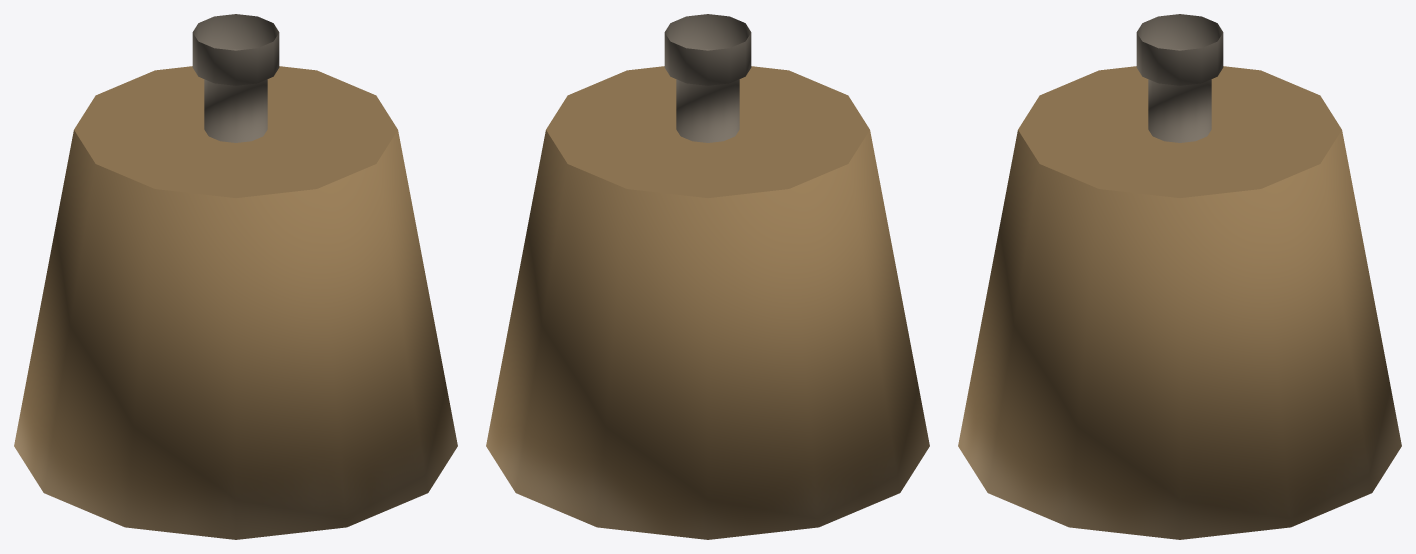
File: Ceiling_Lamp_1.fbx
3 renders of one model, left to right at view 1: azimuth 30°, elevation 25°; view 2: azimuth 150°, elevation 25°; view 3: azimuth 270°, elevation 25°, orthographic.
Visible parts, largest first — view 1: Cylinder; view 2: Cylinder; view 3: Cylinder.
Part boxes in pixels (left/top/right/bottom): Cylinder: left=14, top=14, right=457, bottom=539; Cylinder: left=486, top=14, right=929, bottom=539; Cylinder: left=958, top=14, right=1401, bottom=539.
Bounding box in the file's own units: 200 × 206 × 200.
1 material, 1 textured.
